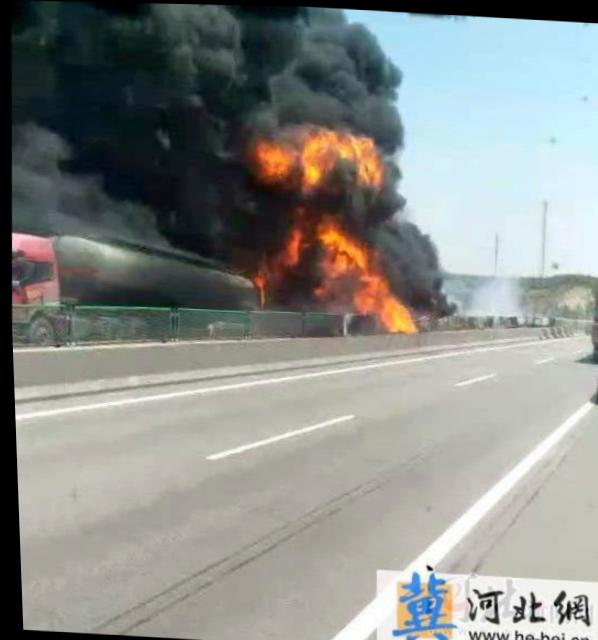fire: (231, 123, 429, 334)
